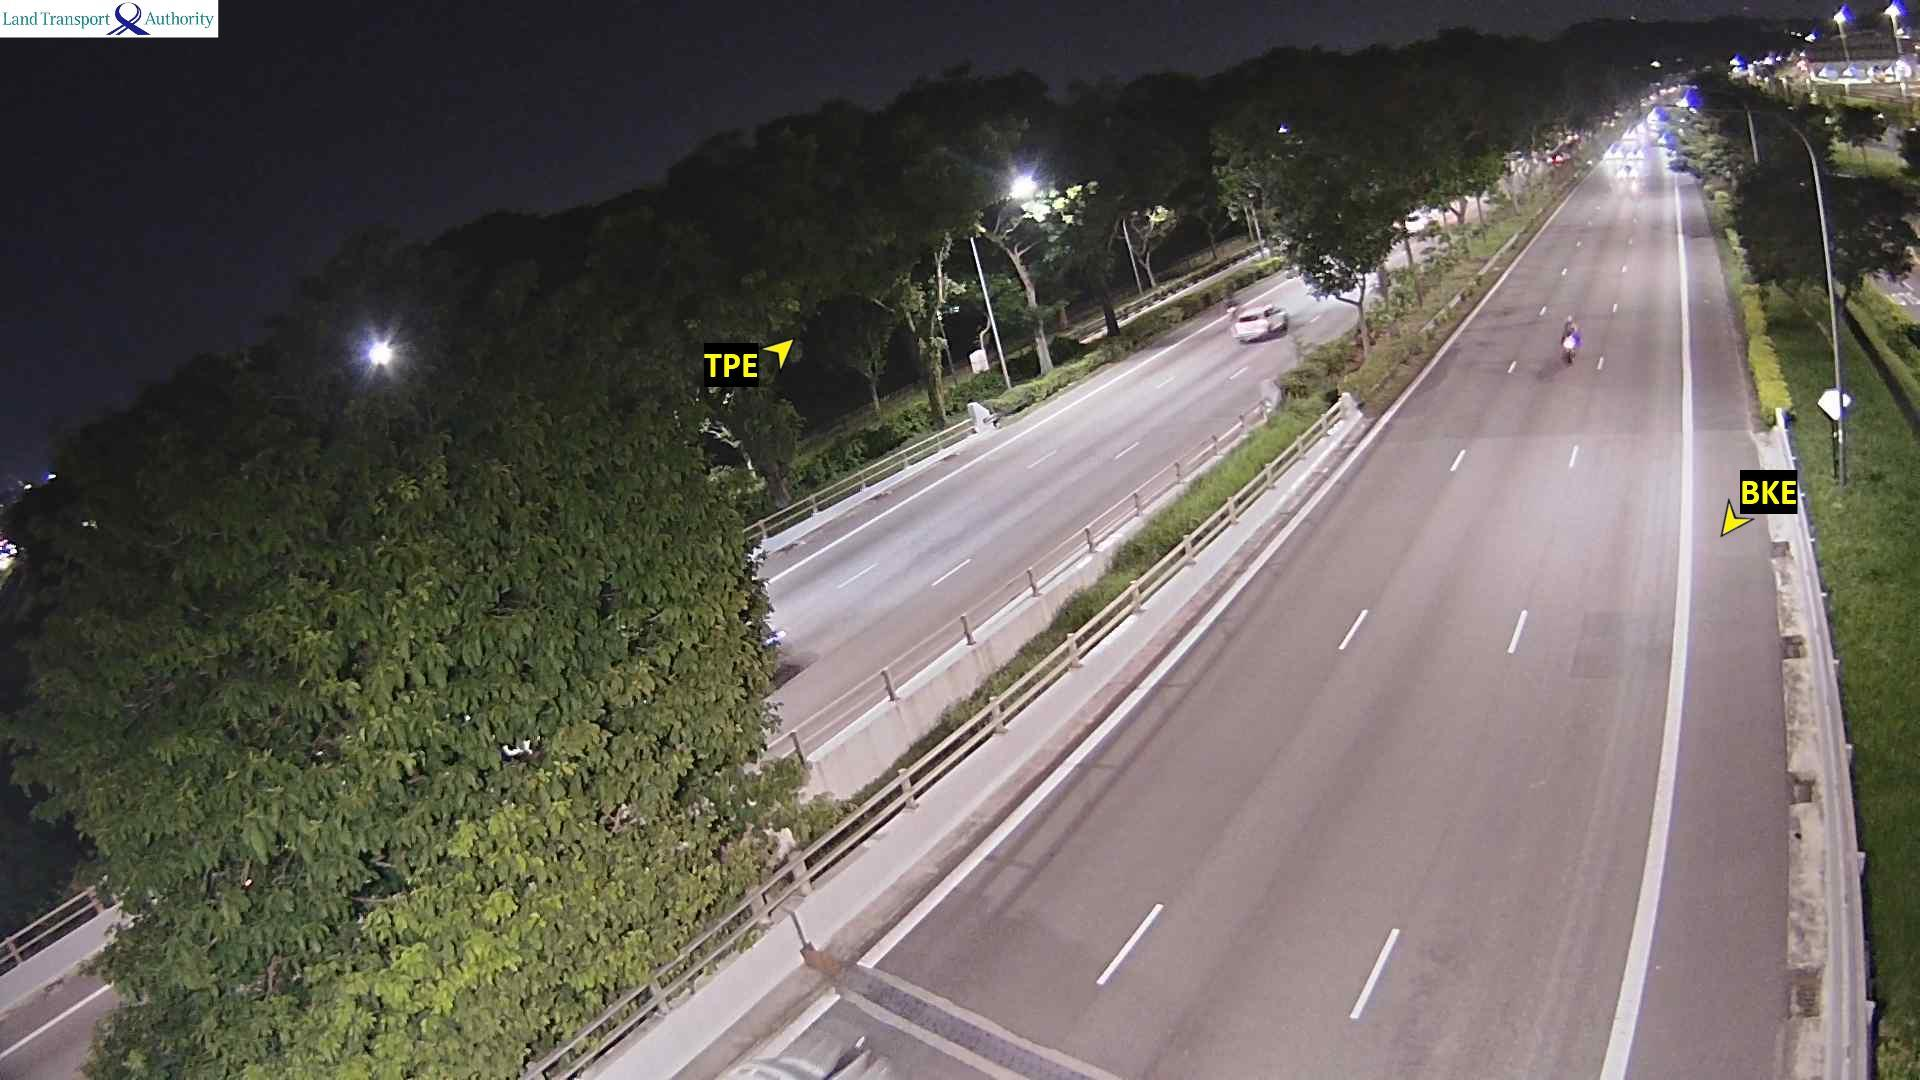cars: (1727, 47, 1916, 87), (1811, 59, 1913, 84), (1232, 301, 1288, 342), (1604, 140, 1642, 161), (1648, 105, 1669, 125), (1655, 131, 1676, 149), (1665, 153, 1687, 170)
motorcycle: (1561, 328, 1578, 364)
